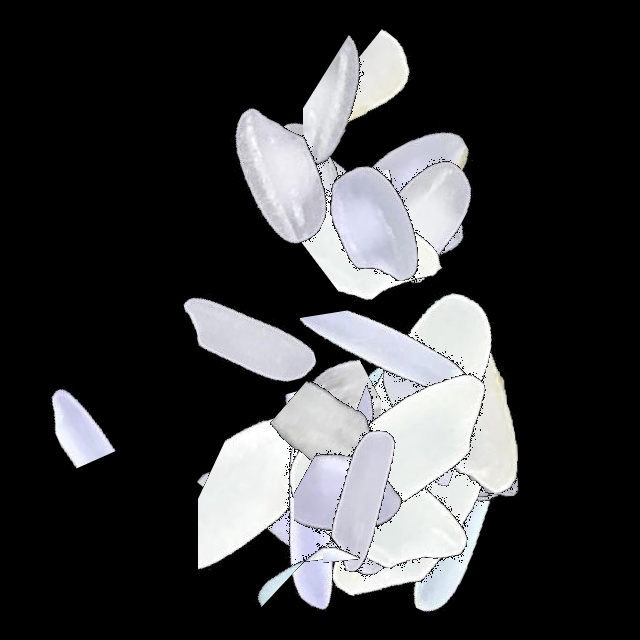Broken: (258, 324, 508, 497), (346, 222, 514, 472), (319, 382, 487, 632), (263, 305, 513, 472), (294, 390, 461, 640), (344, 325, 507, 575), (228, 370, 478, 533), (224, 86, 474, 247), (317, 292, 476, 542), (299, 87, 458, 337), (259, 336, 417, 586), (198, 390, 346, 640), (303, 0, 435, 250), (271, 364, 521, 490), (259, 292, 381, 542), (309, 14, 423, 264), (240, 434, 490, 545), (346, 323, 457, 573), (290, 55, 397, 305), (279, 170, 529, 273), (30, 287, 130, 537), (138, 425, 388, 522), (241, 406, 491, 497), (241, 388, 332, 638), (271, 390, 360, 640), (331, 390, 417, 640), (323, 390, 408, 640), (305, 166, 555, 250)
Full: (230, 88, 480, 338), (126, 210, 376, 460), (292, 53, 542, 303), (328, 314, 578, 564), (289, 327, 539, 577), (334, 385, 584, 635), (262, 307, 512, 557), (173, 373, 423, 623), (336, 314, 586, 564), (268, 106, 518, 356), (293, 95, 543, 345), (197, 386, 447, 636), (328, 323, 578, 573), (232, 308, 482, 558), (152, 51, 402, 301), (249, 100, 499, 350), (285, 384, 535, 634), (245, 390, 495, 640), (281, 318, 531, 568), (340, 278, 590, 528), (254, 380, 504, 630), (284, 321, 534, 571)
